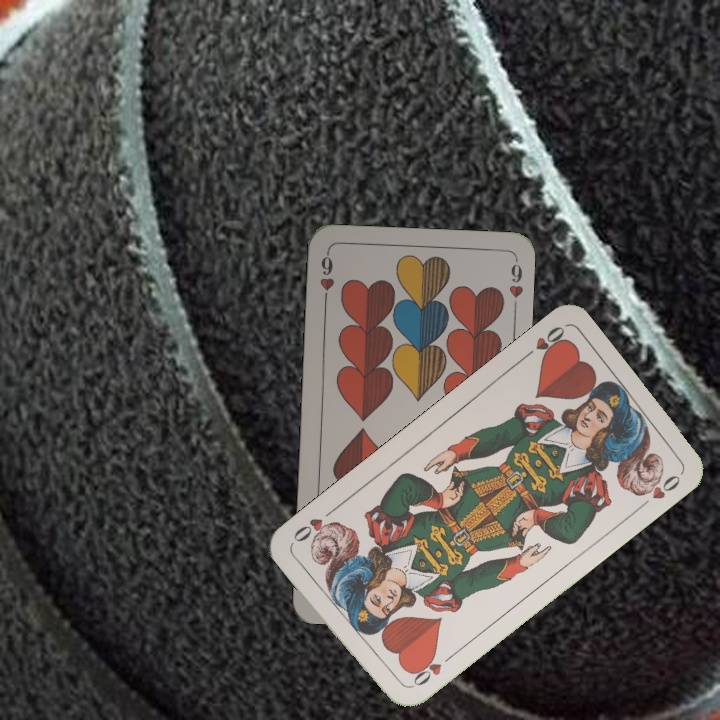H9: (316, 249, 337, 308)
HO: (516, 322, 569, 364), (405, 650, 456, 691)
